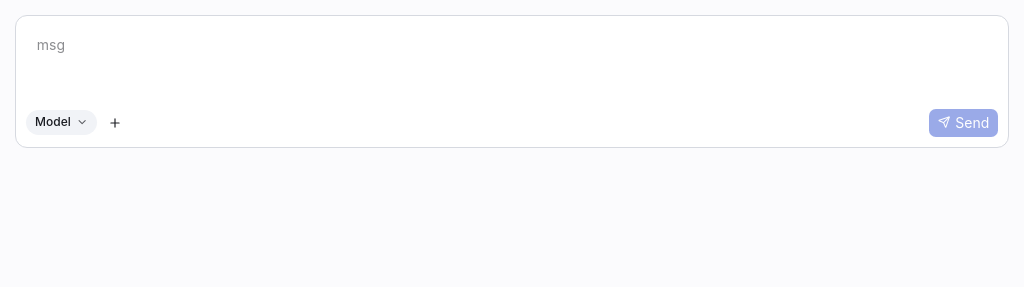
Test case: ChatComposer › opens an anchored plus menu via portal without a detached dialog
Click the button named "Tools" at (115, 122), box [101,108,129,136]
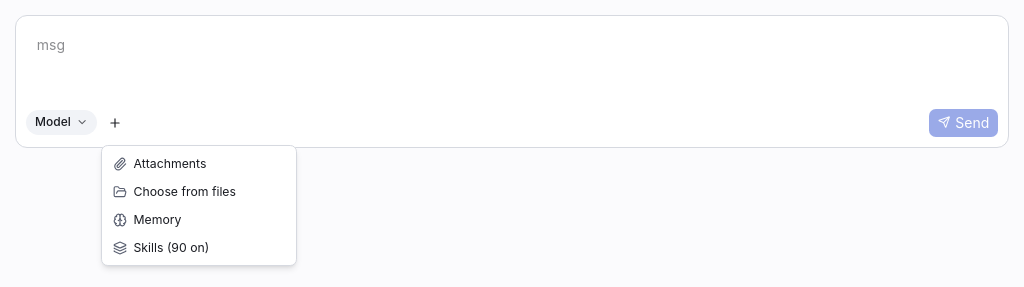
Expected: the text "Memory" is shown, [134,211,182,228]
Expected: the text "Skills (90 on)" is shown, [134,239,209,256]
Expected: the menu "Memory" is shown, [134,212,182,227]
